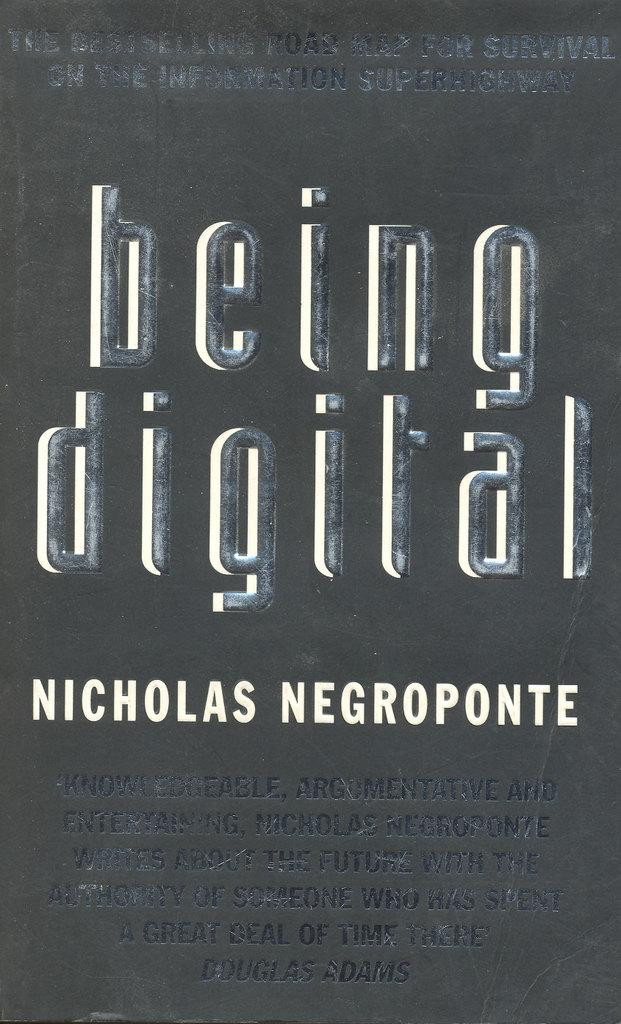book: (35, 101, 586, 1024)
